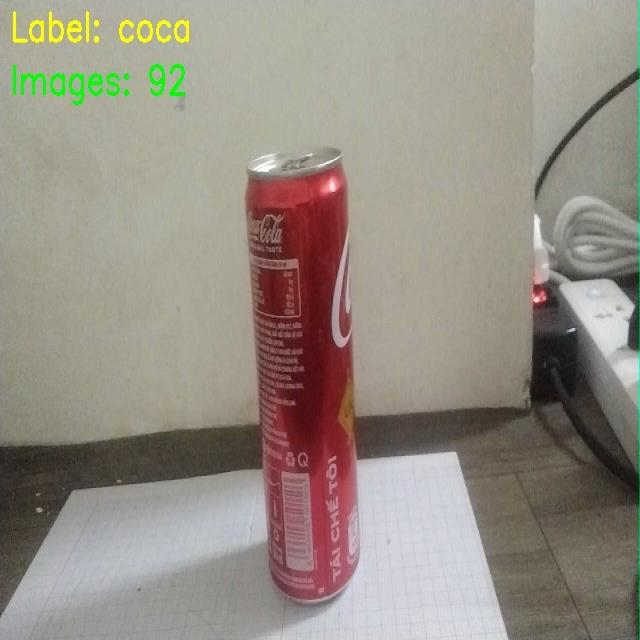Coca: (229, 131, 383, 637)
